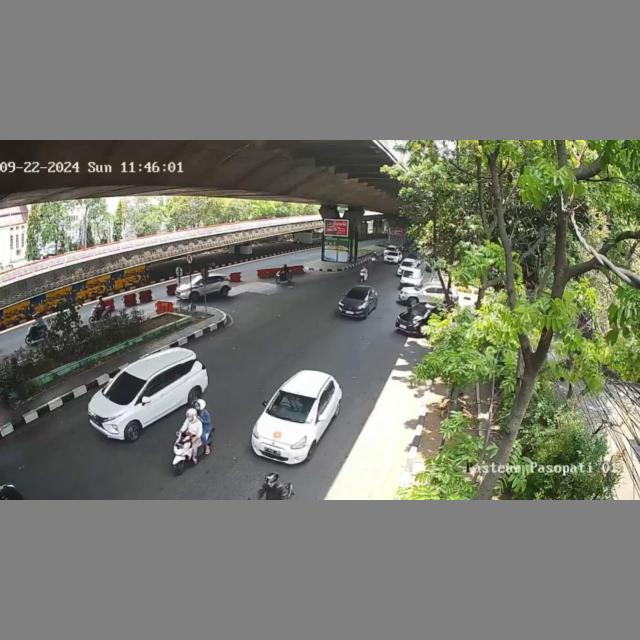windshield: (270, 389, 317, 424), (104, 371, 145, 405), (347, 288, 368, 300)
